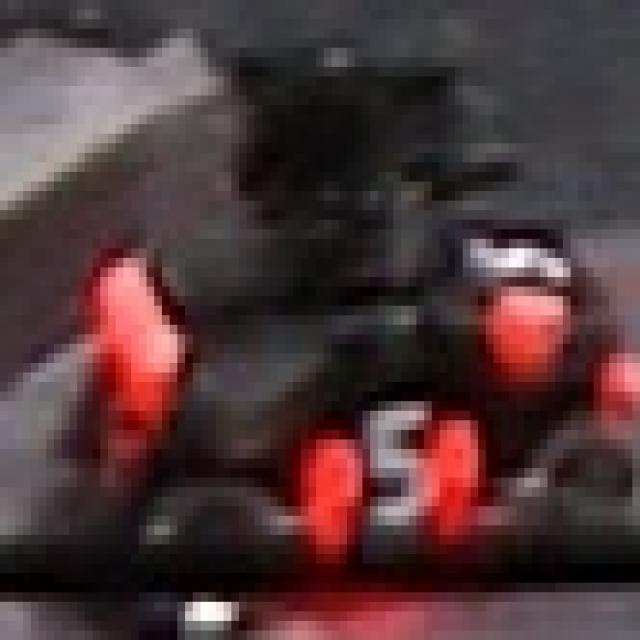R5: (285, 382, 486, 564), (432, 182, 617, 372)
